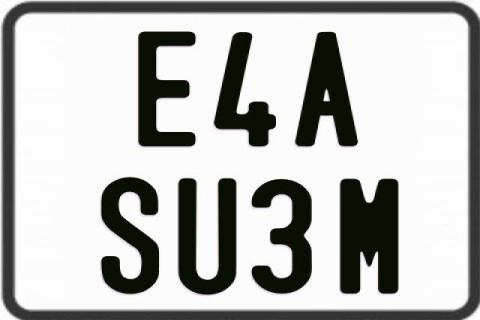0: (213, 31, 280, 151), (250, 177, 310, 295)
A: (293, 31, 361, 147)
E: (138, 29, 200, 149)
M: (338, 177, 396, 293)
S: (101, 177, 160, 296)
U: (178, 179, 236, 299)
